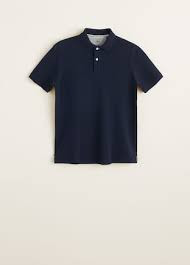C_polo shirt: (29, 25, 163, 163)
